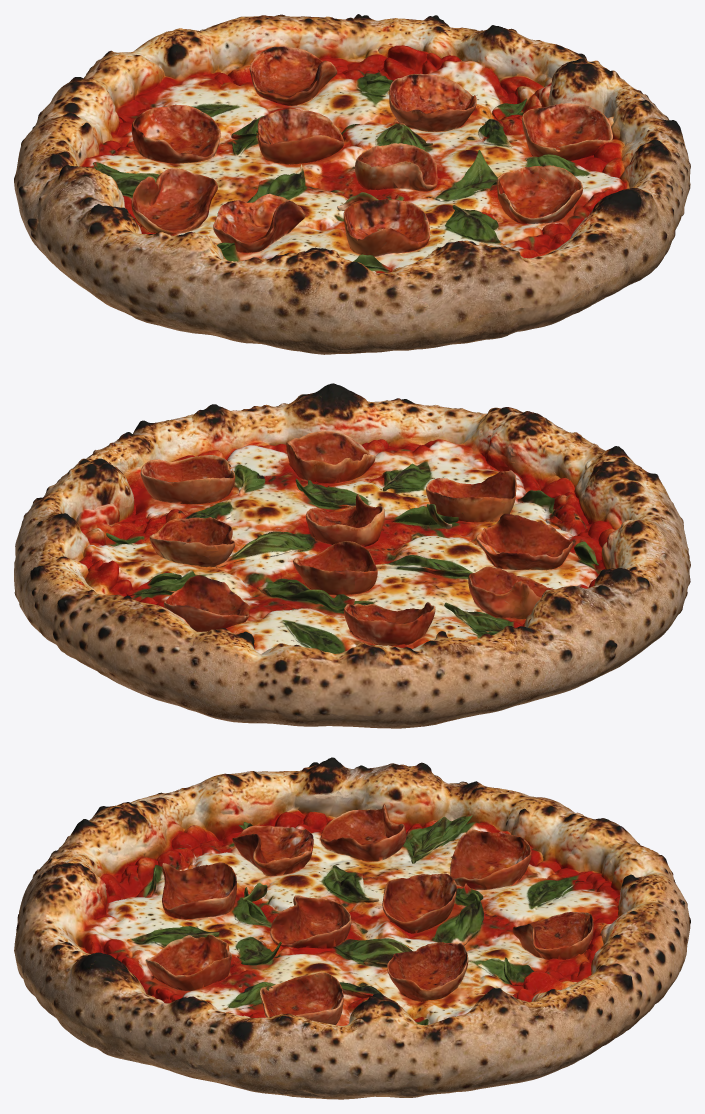
The picture shows the model from 3 angles, top to bottom: view 1: azimuth 30°, elevation 25°; view 2: azimuth 150°, elevation 25°; view 3: azimuth 270°, elevation 25°; orthographic projection.
Parts seen in each view (by area): view 1: output_unwrapped; view 2: output_unwrapped; view 3: output_unwrapped.
Part boxes in pixels (bbox=[...]): output_unwrapped: bbox=[14, 14, 690, 354]; output_unwrapped: bbox=[14, 383, 690, 728]; output_unwrapped: bbox=[14, 757, 690, 1099].
Bounding box in the file's own units: 1.89 × 0.2681 × 1.9.
Materials: 1 (1 with a texture image).
